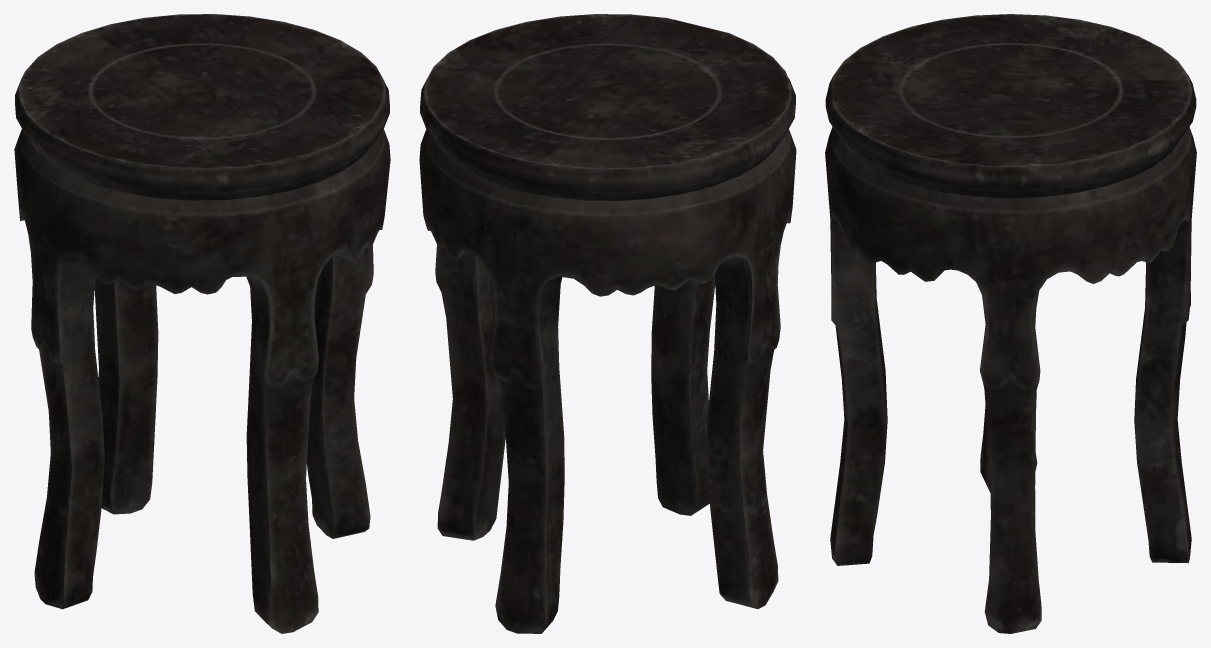
The model's file is WoodenTable_02.glb.
3 views of the same model, side by side, from view 1: azimuth 30°, elevation 25°; view 2: azimuth 150°, elevation 25°; view 3: azimuth 270°, elevation 25° (orthographic).
Parts seen in each view (by area): view 1: WoodenTable_02; view 2: WoodenTable_02; view 3: WoodenTable_02.
Boxes of the visible parts, x1=… form: WoodenTable_02: x1=14, y1=14, x2=390, y2=633; WoodenTable_02: x1=419, y1=14, x2=796, y2=633; WoodenTable_02: x1=825, y1=14, x2=1196, y2=633.
Bounding box in the file's own units: 0.3007 × 0.4177 × 0.3007.
Materials: 1 (1 with a texture image).
